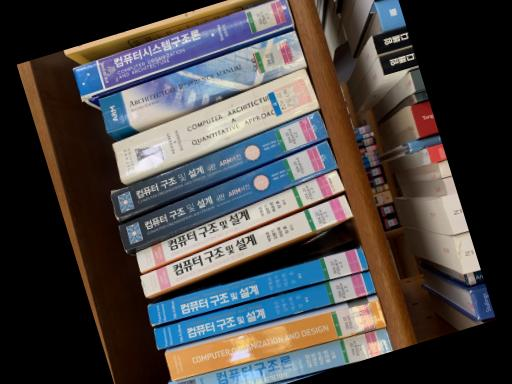book-spine: (118, 139, 337, 250), (110, 109, 327, 220), (112, 67, 319, 182), (72, 0, 294, 100), (140, 194, 352, 295), (135, 170, 344, 271), (98, 30, 305, 131), (165, 299, 386, 380), (153, 270, 374, 349), (147, 246, 368, 325), (168, 327, 393, 384)
